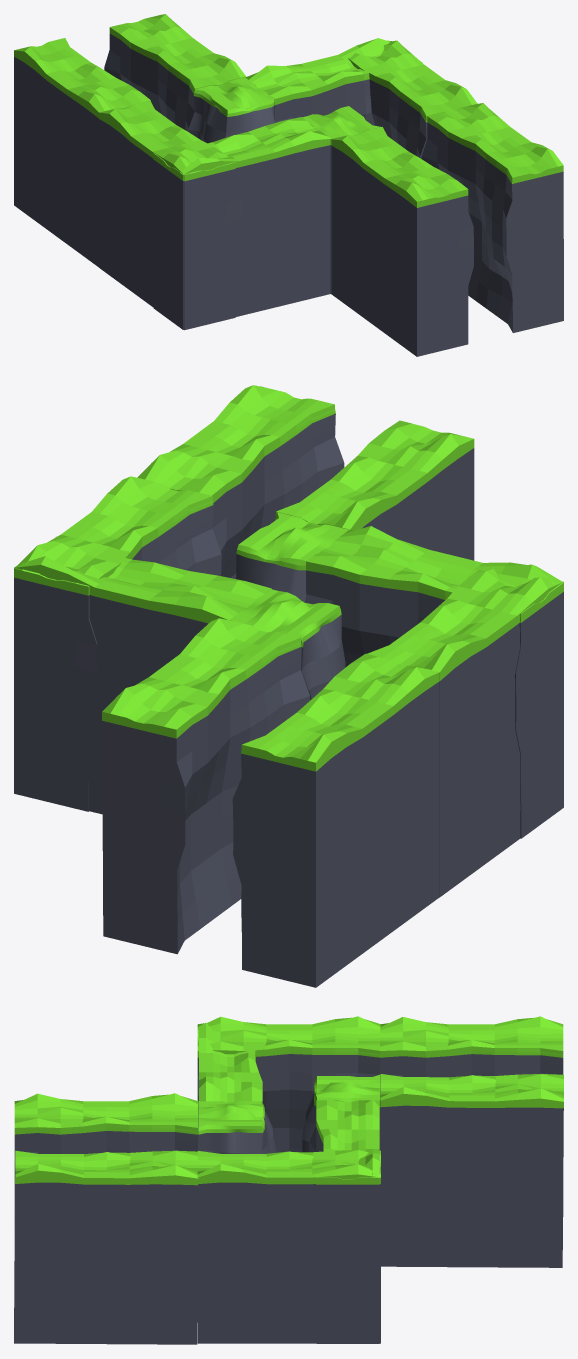
Rendered from BlockSet9.dae.
3 renders of one model, top to bottom at view 1: azimuth 30°, elevation 25°; view 2: azimuth 150°, elevation 25°; view 3: azimuth 270°, elevation 25°, orthographic. The views are drawn at different scales.
Visible parts, largest first — view 1: BlockSet9Fin; view 2: BlockSet9Fin; view 3: BlockSet9Fin.
Part boxes in pixels (left/top/right/bottom): BlockSet9Fin: left=14, top=14, right=563, bottom=356; BlockSet9Fin: left=14, top=385, right=563, bottom=987; BlockSet9Fin: left=14, top=1016, right=563, bottom=1344.
Size of the model in its own units: 309 by 167 by 466.
